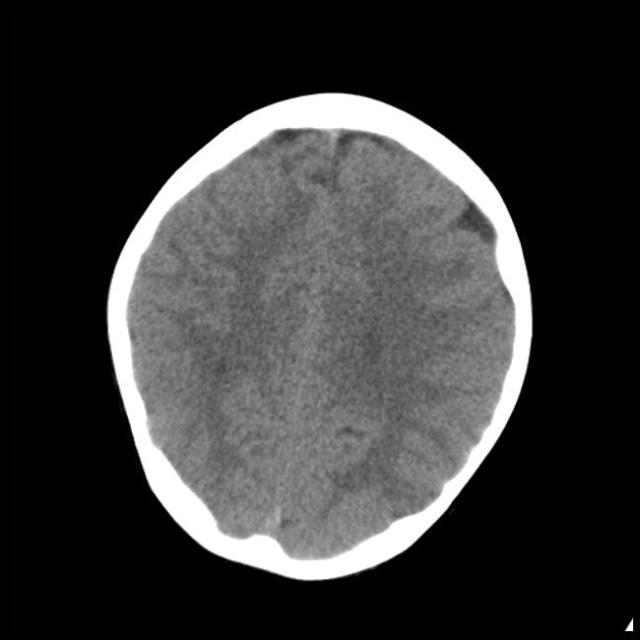lesion: (106, 95, 535, 579)
